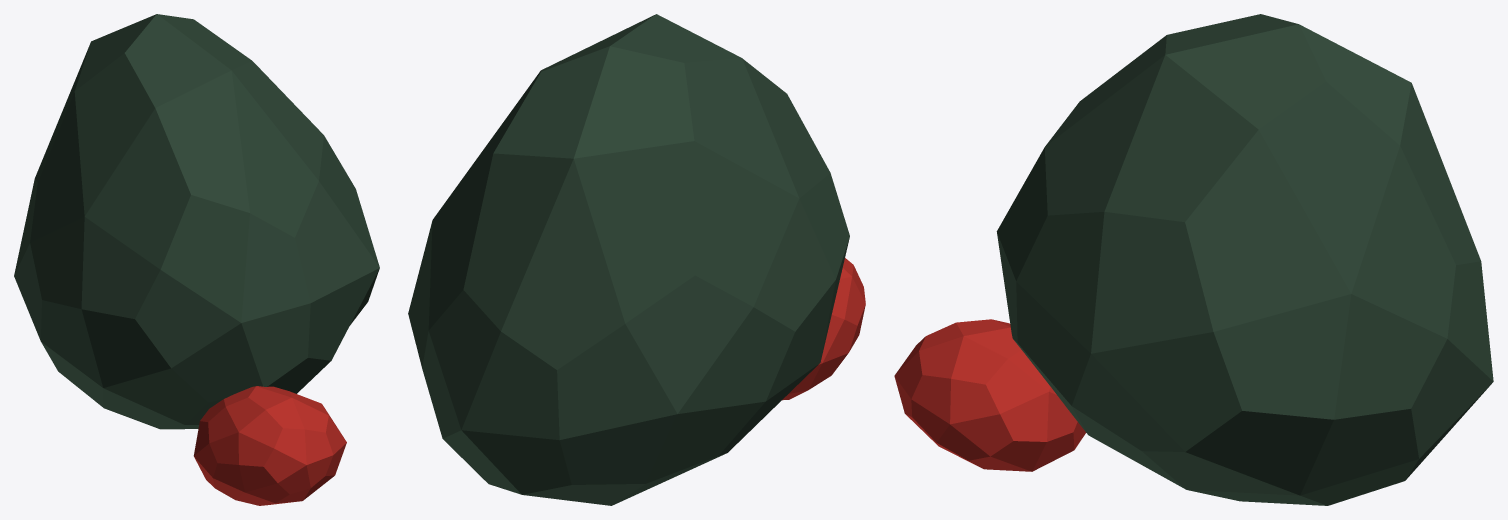
The model's file is Rock1.obj.
3 renders of one model, left to right at view 1: azimuth 30°, elevation 25°; view 2: azimuth 150°, elevation 25°; view 3: azimuth 270°, elevation 25°, orthographic. The views are drawn at different scales.
Visible parts, largest first — view 1: pasted__pasted__pasted__pPlatonic2 pasted__pasted__group30 paste, pasted__pasted__pPlatonic2 pasted__group30 group37; view 2: pasted__pasted__pasted__pPlatonic2 pasted__pasted__group30 paste, pasted__pasted__pPlatonic2 pasted__group30 group37; view 3: pasted__pasted__pasted__pPlatonic2 pasted__pasted__group30 paste, pasted__pasted__pPlatonic2 pasted__group30 group37.
Part boxes in pixels (<box>): pasted__pasted__pasted__pPlatonic2 pasted__pasted__group30 paste: <box>14,14,379,429</box>; pasted__pasted__pPlatonic2 pasted__group30 group37: <box>193,386,346,505</box>; pasted__pasted__pasted__pPlatonic2 pasted__pasted__group30 paste: <box>408,14,849,505</box>; pasted__pasted__pPlatonic2 pasted__group30 group37: <box>782,258,865,400</box>; pasted__pasted__pasted__pPlatonic2 pasted__pasted__group30 paste: <box>996,14,1493,505</box>; pasted__pasted__pPlatonic2 pasted__group30 group37: <box>894,319,1085,471</box>.
Size of the model in its own units: 4.41 by 5.2 by 6.27.
